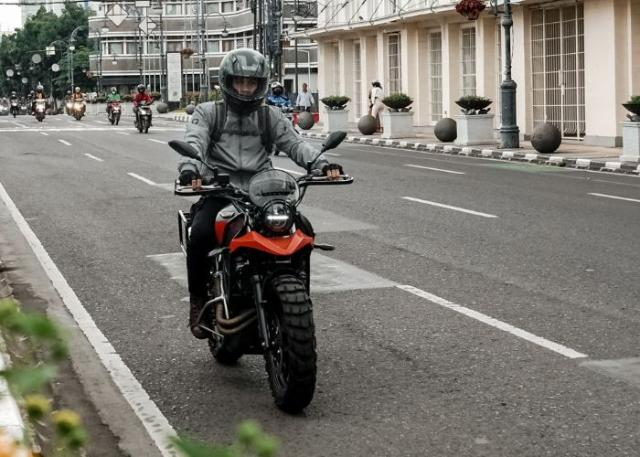helm: (219, 49, 273, 115)
motor: (173, 156, 353, 415)
